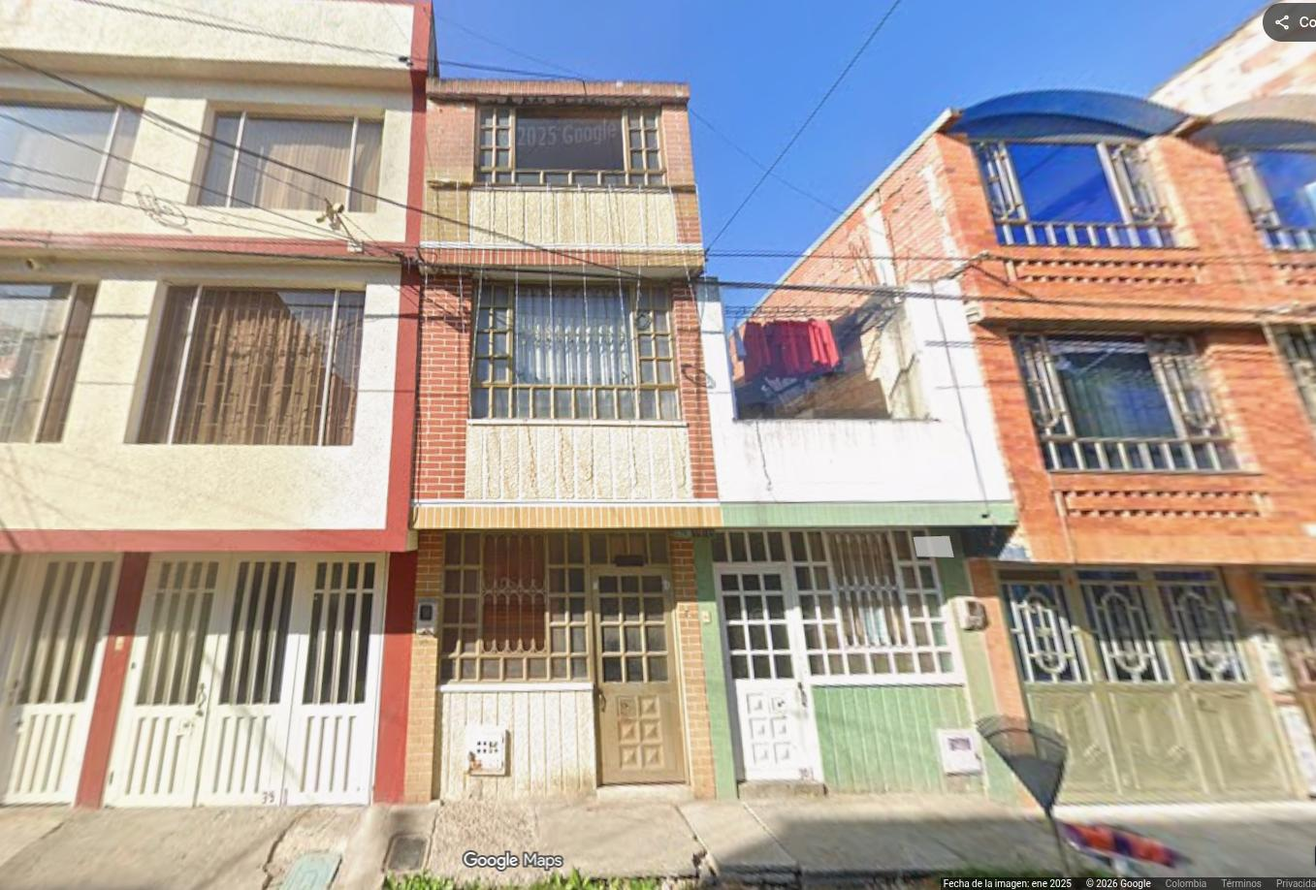casa: (771, 90, 1315, 802), (0, 0, 436, 805), (406, 79, 731, 799), (697, 256, 1017, 791)
